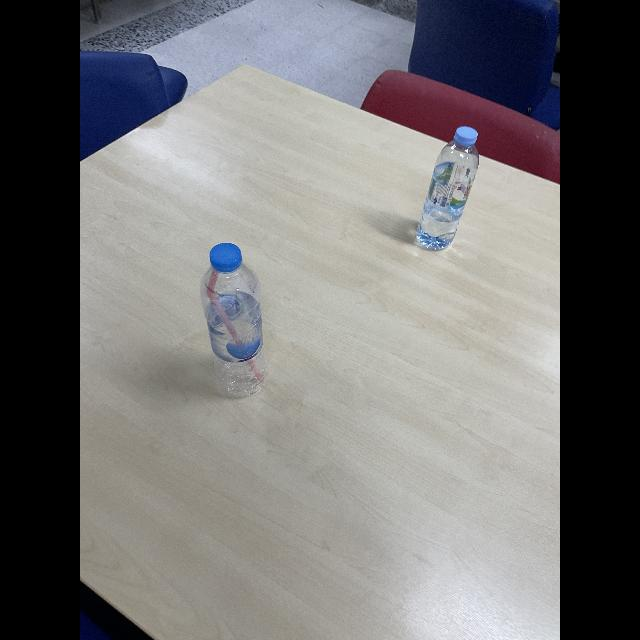plastic_bottle: (198, 243, 268, 402), (416, 121, 480, 252)
plastic_bottle_cap: (210, 243, 242, 273), (454, 125, 480, 148)
straw: (204, 268, 260, 378)
